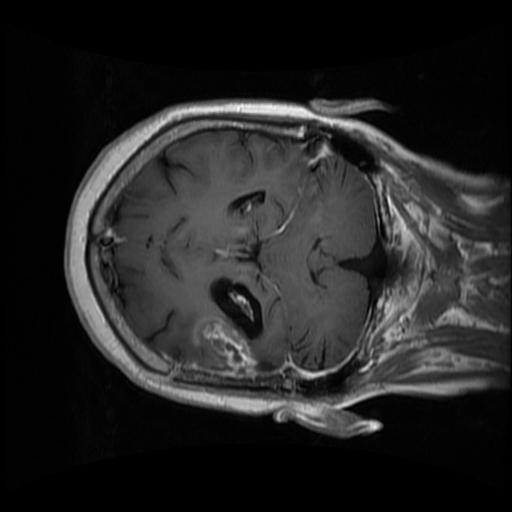glioma: (191, 275, 272, 378)
